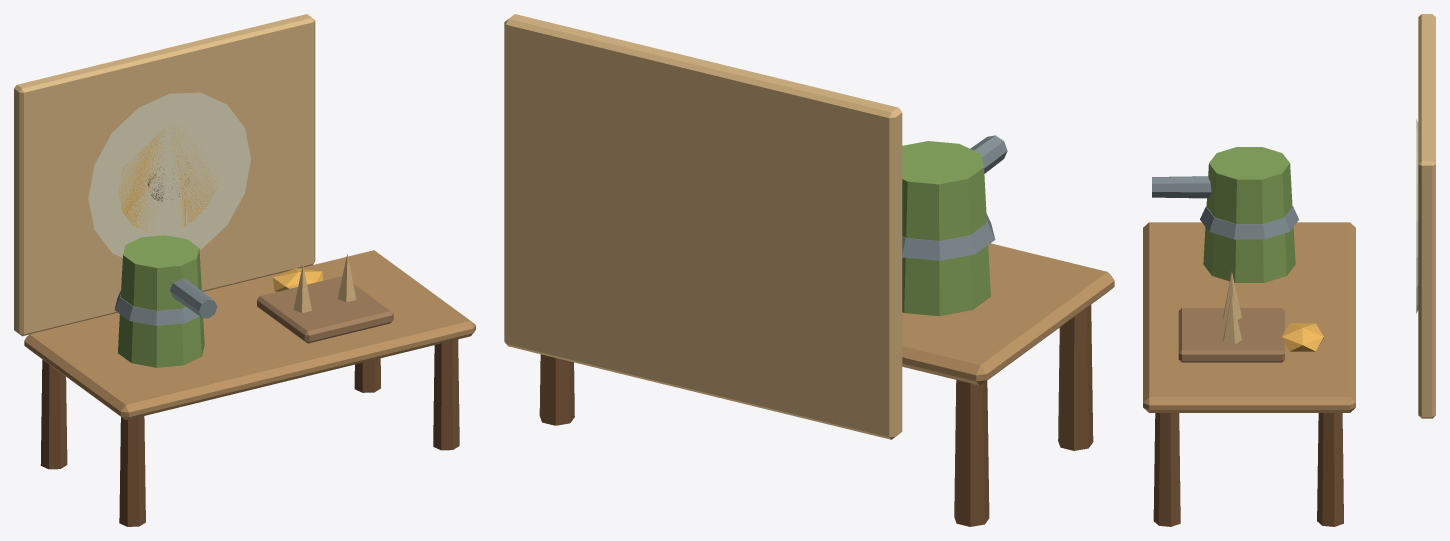
The model's file is CC_DefenseLab.fbx.
3 renders of one model, left to right at view 1: azimuth 30°, elevation 25°; view 2: azimuth 150°, elevation 25°; view 3: azimuth 270°, elevation 25°, orthographic. The views are drawn at different scales.
Parts seen in each view (by area): view 1: Target board, Top.009, Target ring.004, Test tank, Spike sample, Target ring.005, Leg.088, Leg.090, Leg.089, Tank band, Test nozzle, Leg.091 (+1 smaller); view 2: Target board, Top.009, Test tank, Leg.089, Leg.088, Leg.091, Tank band, Test nozzle; view 3: Top.009, Test tank, Target board, Spike sample, Leg.090, Leg.091, Tank band, Test nozzle, Resin sample, Target ring.004, Spike.010, Spike.009.
Part boxes in pixels (x1=…): Target board: x1=14, y1=14, x2=315, y2=336; Top.009: x1=24, y1=250, x2=475, y2=420; Target ring.004: x1=88, y1=92, x2=250, y2=257; Test tank: x1=118, y1=235, x2=204, y2=367; Spike sample: x1=257, y1=276, x2=393, y2=343; Target ring.005: x1=118, y1=125, x2=217, y2=232; Leg.088: x1=119, y1=416, x2=145, y2=526; Leg.090: x1=433, y1=339, x2=459, y2=450; Leg.089: x1=40, y1=359, x2=67, y2=469; Tank band: x1=114, y1=289, x2=203, y2=325; Test nozzle: x1=169, y1=279, x2=217, y2=318; Leg.091: x1=354, y1=358, x2=380, y2=392; Target board: x1=504, y1=14, x2=902, y2=439; Top.009: x1=902, y1=243, x2=1114, y2=385; Test tank: x1=902, y1=141, x2=990, y2=316; Leg.089: x1=954, y1=380, x2=989, y2=526; Leg.088: x1=1058, y1=305, x2=1093, y2=450; Leg.091: x1=539, y1=354, x2=574, y2=425; Tank band: x1=902, y1=213, x2=995, y2=260; Test nozzle: x1=970, y1=135, x2=1007, y2=173; Top.009: x1=1143, y1=222, x2=1355, y2=412; Test tank: x1=1203, y1=147, x2=1295, y2=282; Target board: x1=1418, y1=14, x2=1435, y2=418; Spike sample: x1=1178, y1=308, x2=1284, y2=362; Leg.090: x1=1153, y1=413, x2=1180, y2=526; Leg.091: x1=1317, y1=413, x2=1343, y2=526; Tank band: x1=1200, y1=206, x2=1298, y2=239; Test nozzle: x1=1152, y1=176, x2=1211, y2=198; Resin sample: x1=1282, y1=323, x2=1323, y2=351; Target ring.004: x1=1416, y1=119, x2=1418, y2=313; Spike.010: x1=1223, y1=294, x2=1241, y2=344; Spike.009: x1=1223, y1=271, x2=1241, y2=320.
Size of the model in its own units: 2.4 by 2.2 by 1.65.
